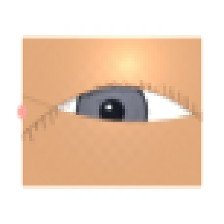pinguecula_lesion: (34, 103, 70, 132)
